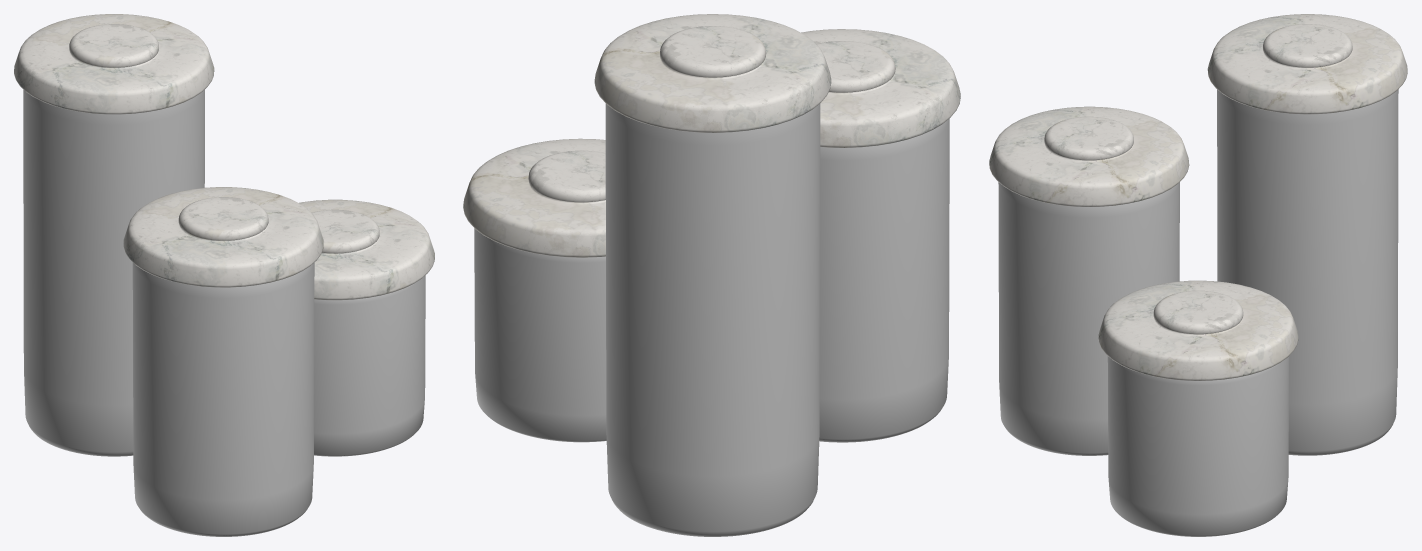
The model's file is Kitchen Storage.fbx.
3 views of the same model, side by side, from view 1: azimuth 30°, elevation 25°; view 2: azimuth 150°, elevation 25°; view 3: azimuth 270°, elevation 25° (orthographic). The views are drawn at different scales.
Visible parts, largest first — view 1: Cylinder.003, Cylinder.006, Cylinder.009, Cylinder.001, Cylinder.005, Cylinder.010; view 2: Cylinder.006, Cylinder.003, Cylinder.009, Cylinder.001, Cylinder.010, Cylinder.005; view 3: Cylinder.006, Cylinder.003, Cylinder.009, Cylinder.001, Cylinder.010, Cylinder.005.
Boxes of the visible parts, x1=… form: Cylinder.003: x1=132, y1=262, x2=314, y2=536; Cylinder.006: x1=23, y1=89, x2=204, y2=456; Cylinder.009: x1=314, y1=275, x2=425, y2=456; Cylinder.001: x1=14, y1=14, x2=214, y2=114; Cylinder.005: x1=123, y1=187, x2=323, y2=287; Cylinder.010: x1=299, y1=199, x2=434, y2=300; Cylinder.006: x1=605, y1=103, x2=820, y2=536; Cylinder.003: x1=819, y1=119, x2=949, y2=442; Cylinder.009: x1=474, y1=228, x2=606, y2=442; Cylinder.001: x1=594, y1=14, x2=831, y2=132; Cylinder.010: x1=463, y1=138, x2=605, y2=257; Cylinder.005: x1=801, y1=29, x2=960, y2=147; Cylinder.006: x1=1217, y1=89, x2=1398, y2=455; Cylinder.003: x1=998, y1=182, x2=1179, y2=455; Cylinder.009: x1=1107, y1=356, x2=1289, y2=536; Cylinder.001: x1=1207, y1=14, x2=1407, y2=114; Cylinder.010: x1=1098, y1=280, x2=1298, y2=380; Cylinder.005: x1=989, y1=106, x2=1189, y2=206.
Bounding box in the file's own units: 716 × 767 × 766.
